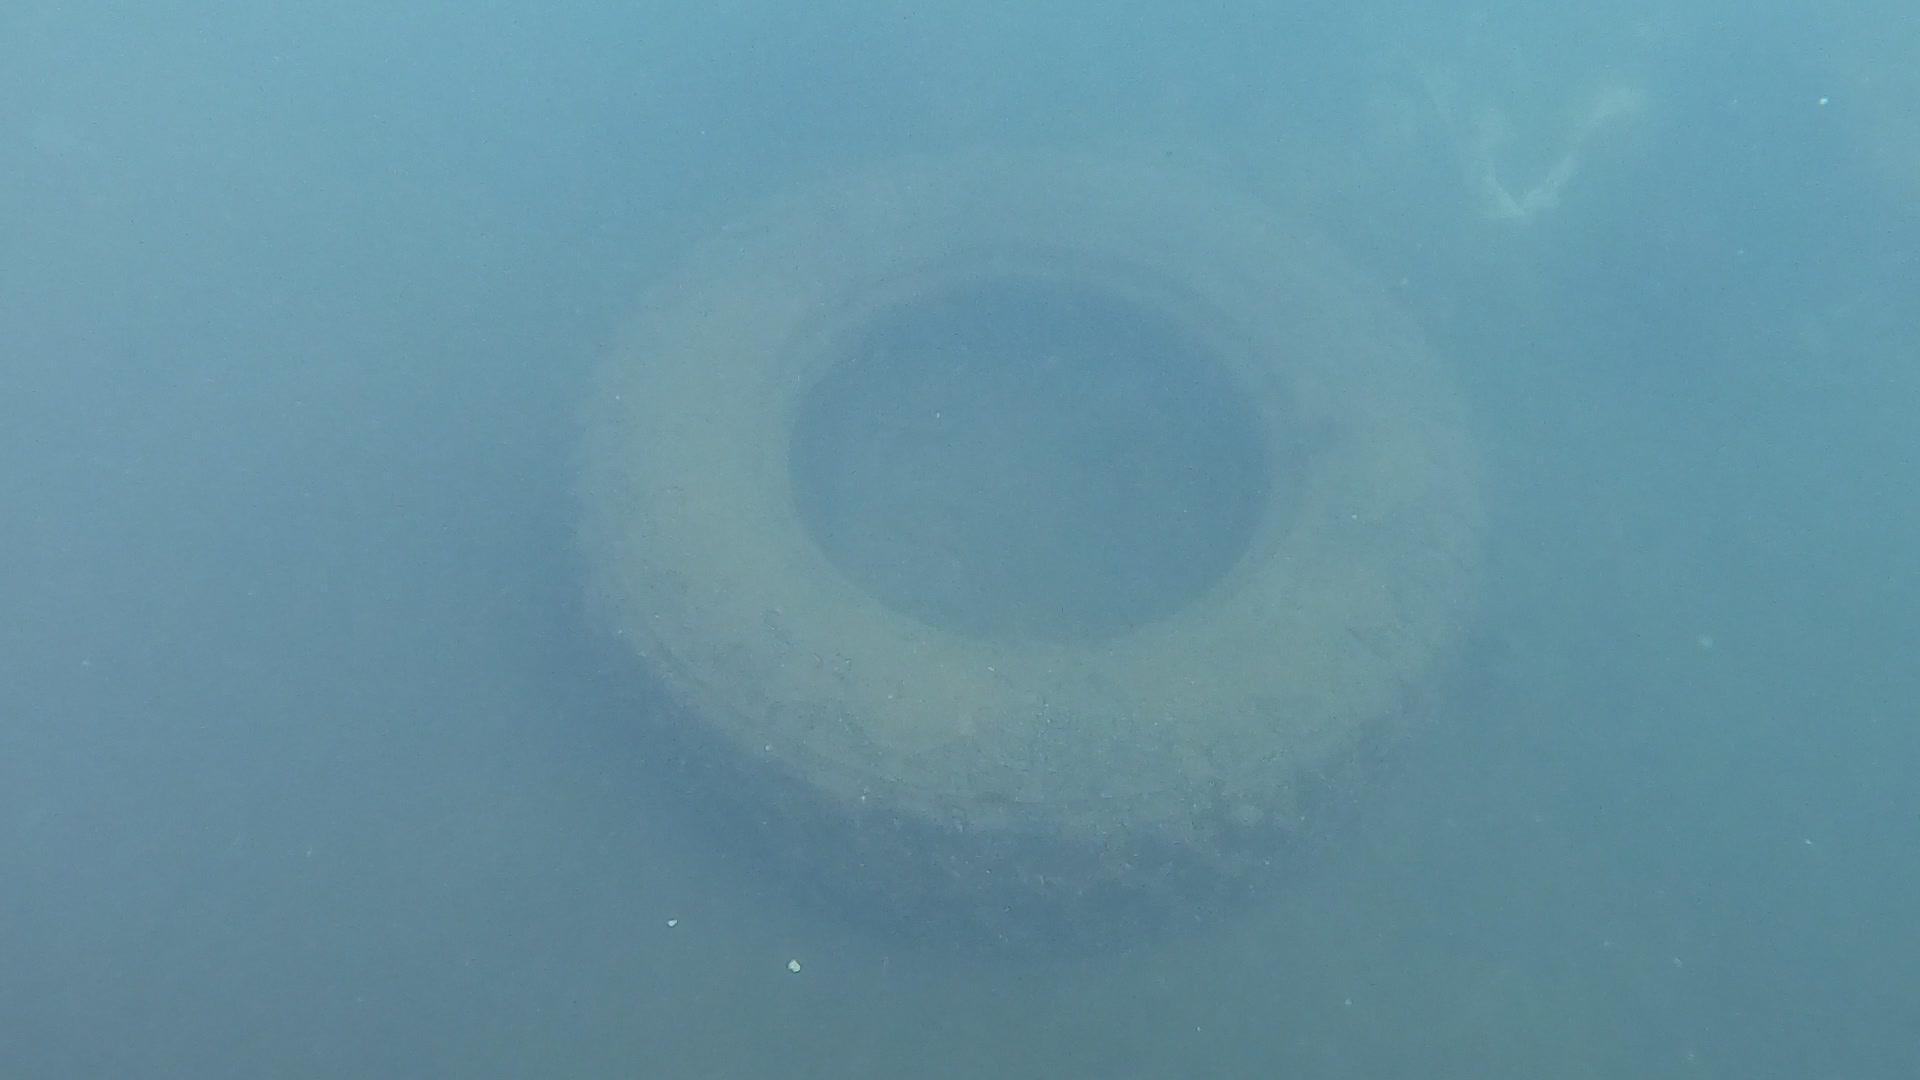tire: (564, 136, 1495, 927)
